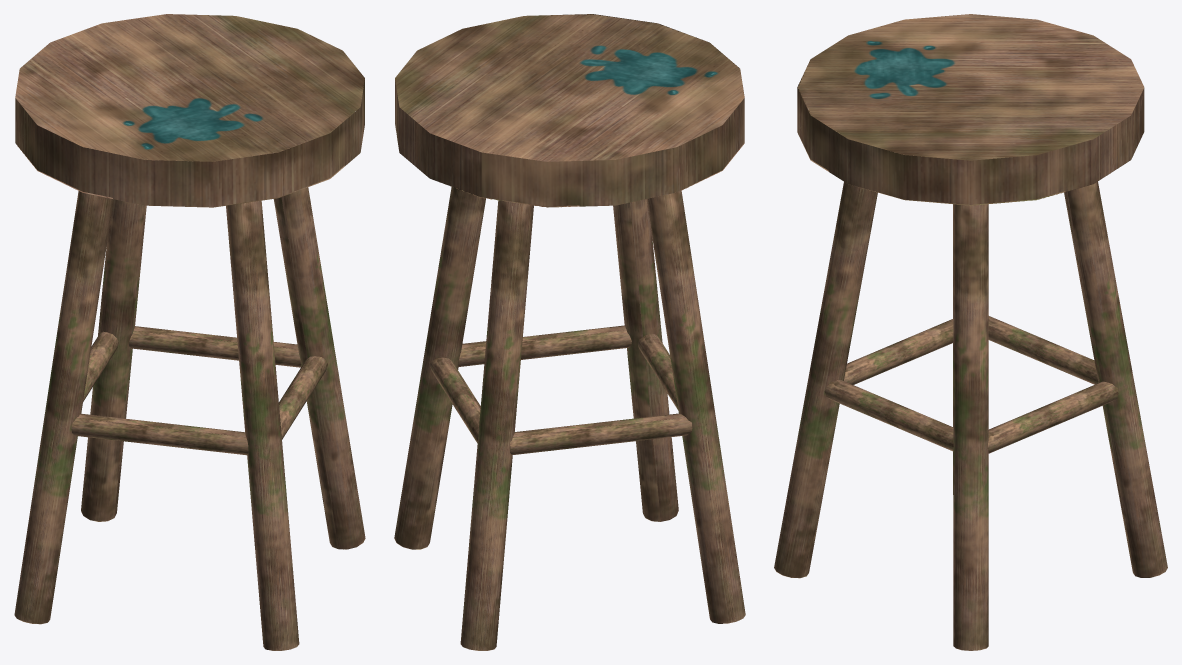
File: Taburete.FBX
The picture shows the model from 3 angles, left to right: view 1: azimuth 30°, elevation 25°; view 2: azimuth 150°, elevation 25°; view 3: azimuth 270°, elevation 25°; orthographic projection.
Parts seen in each view (by area): view 1: Asiento_Taburete, Pata 006, Pata 1, Pata 005, Pata 007, Pata atravesada 1, Pata atravesada 004, Pata atravesada 006, Pata atravesada 005; view 2: Asiento_Taburete, Pata 007, Pata 1, Pata 005, Pata 006, Pata atravesada 005, Pata atravesada 006, Pata atravesada 004, Pata atravesada 1; view 3: Asiento_Taburete, Pata 005, Pata 006, Pata 007, Pata atravesada 004, Pata atravesada 006, Pata atravesada 005, Pata atravesada 1.
Part boxes in pixels (left/top/right/bottom): Asiento_Taburete: left=15, top=14, right=364, bottom=207; Pata 006: left=222, top=155, right=299, bottom=650; Pata 1: left=14, top=148, right=113, bottom=624; Pata 005: left=273, top=187, right=365, bottom=549; Pata 007: left=81, top=199, right=146, bottom=521; Pata atravesada 1: left=71, top=413, right=248, bottom=455; Pata atravesada 004: left=129, top=326, right=301, bottom=367; Pata atravesada 006: left=279, top=356, right=327, bottom=439; Pata atravesada 005: left=83, top=331, right=118, bottom=401; Asiento_Taburete: left=395, top=14, right=744, bottom=207; Pata 007: left=460, top=200, right=533, bottom=650; Pata 1: left=646, top=191, right=745, bottom=623; Pata 005: left=394, top=187, right=485, bottom=549; Pata 006: left=613, top=199, right=678, bottom=521; Pata atravesada 005: left=510, top=413, right=692, bottom=455; Pata atravesada 006: left=458, top=325, right=631, bottom=366; Pata atravesada 004: left=429, top=357, right=480, bottom=443; Pata atravesada 1: left=637, top=334, right=678, bottom=409; Asiento_Taburete: left=797, top=14, right=1144, bottom=205; Pata 005: left=953, top=204, right=988, bottom=650; Pata 006: left=774, top=182, right=877, bottom=578; Pata 007: left=1064, top=181, right=1167, bottom=577; Pata atravesada 004: left=987, top=381, right=1118, bottom=453; Pata atravesada 006: left=824, top=380, right=953, bottom=451; Pata atravesada 005: left=988, top=316, right=1098, bottom=384; Pata atravesada 1: left=844, top=319, right=953, bottom=384.
Size of the model in its own units: 0.2963 by 0.4036 by 0.2966.
Materials: 3 (3 with a texture image).
